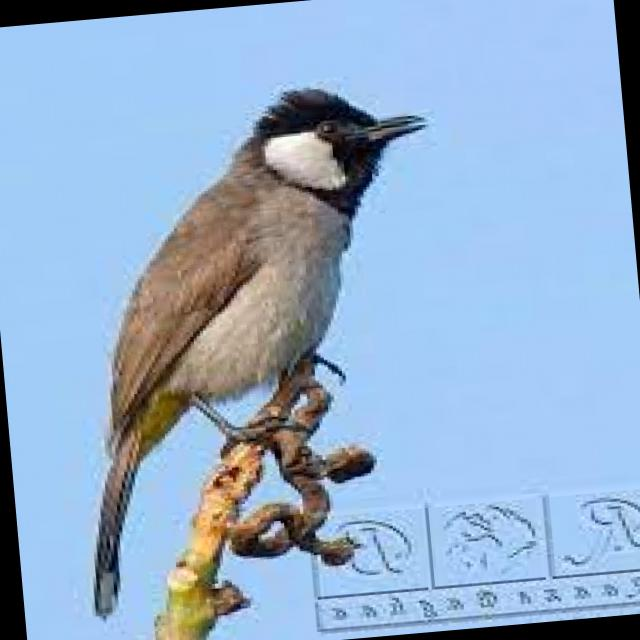bird: (21, 70, 472, 626)
